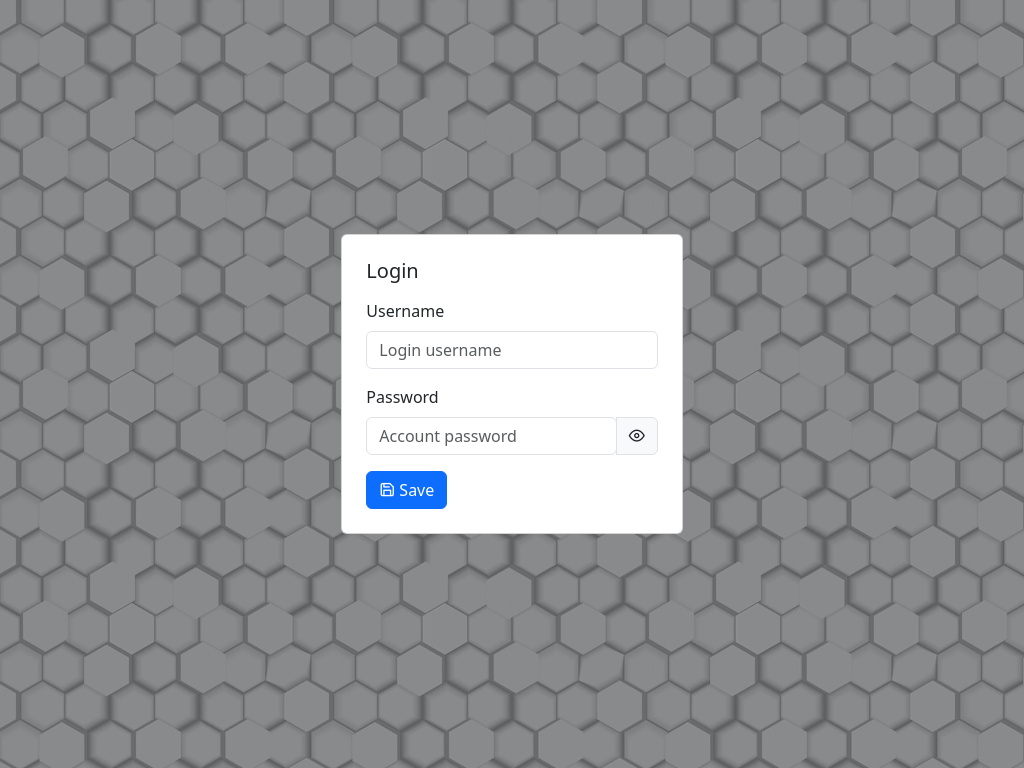
Test: Login › blocks submission and shows validation errors when both fields are empty
Click the button "Save": click(407, 490) [366,471,447,509]
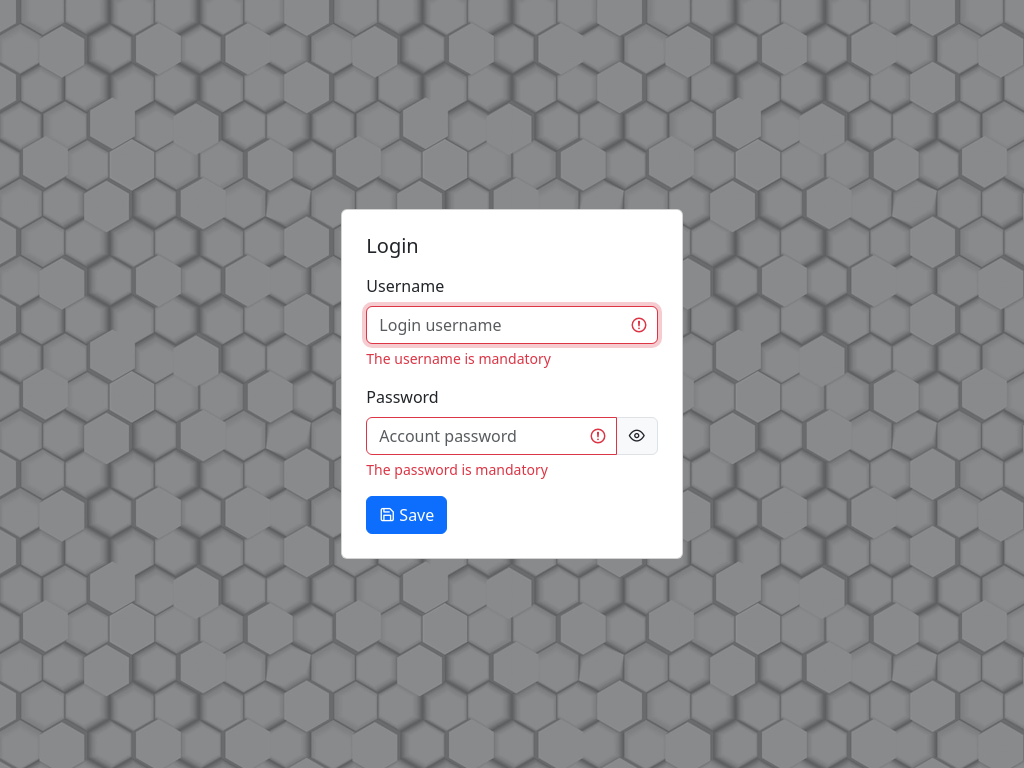
Check: the text "The username is mandatory" is shown, box [366,349,551,368]
Check: the text "The password is mandatory" is shown, box [366,460,548,479]
